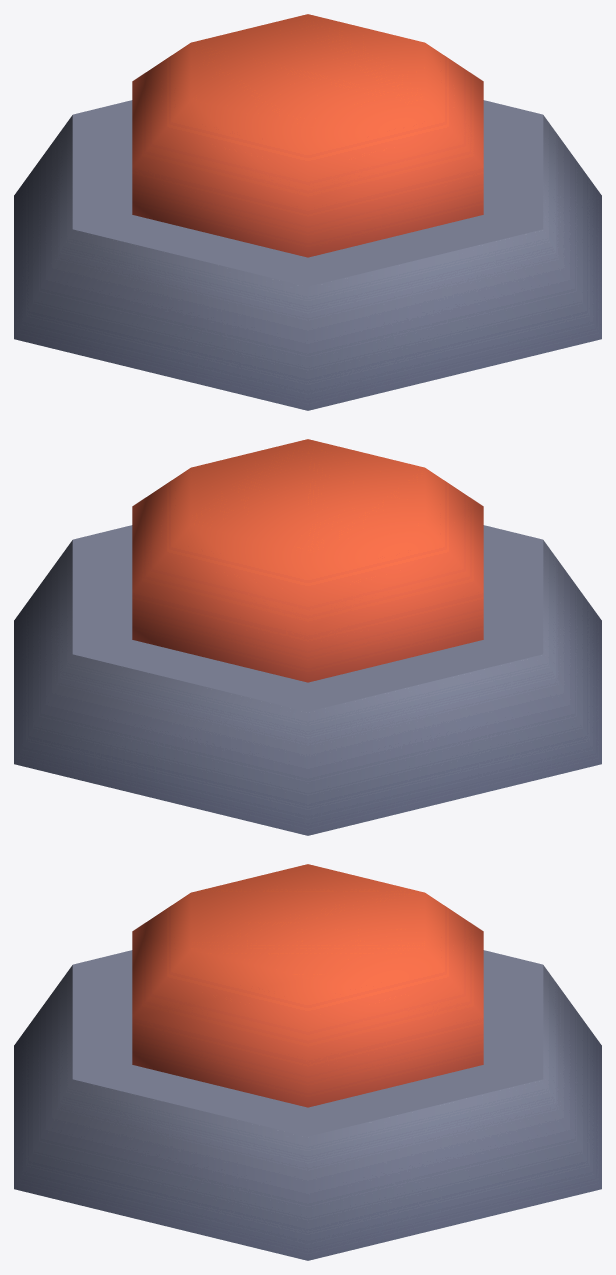
Rendered from button-round.glb.
3 views of the same model, one above another, from view 1: azimuth 30°, elevation 25°; view 2: azimuth 150°, elevation 25°; view 3: azimuth 270°, elevation 25° (orthographic).
Visible parts, largest first — view 1: button-round, button; view 2: button-round, button; view 3: button-round, button.
Part boxes in pixels (x1,y1,x2,y2): button-round: (14,100,601,410); button: (132,14,483,257); button-round: (14,525,601,835); button: (132,439,483,682); button-round: (14,950,601,1260); button: (132,864,483,1107).
Bounding box in the file's own units: 0.58 × 0.185 × 0.5023.
1 material, 1 textured.
